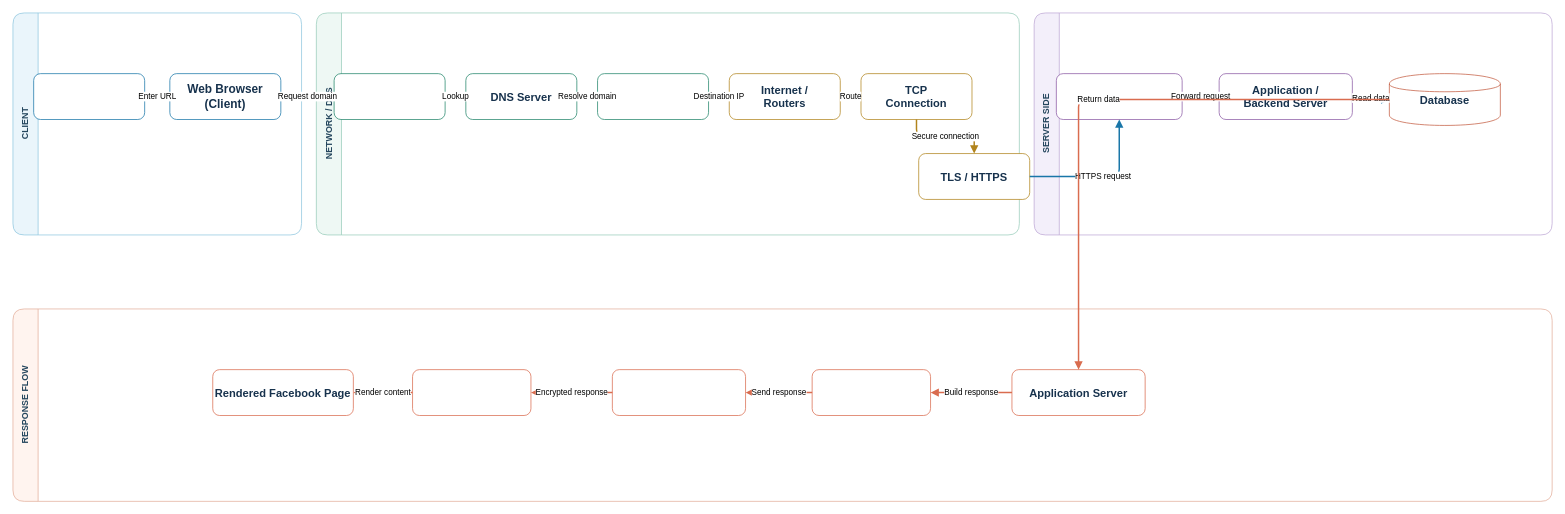
Image size: 1565x514. Some labels were removed from this diagram. Here are the shapes that lost their labels. From the top down, the centre of each, then its label:
point (89, 96): User
point (389, 96): DNS Resolver
point (653, 96): IP Address
point (1119, 96): Facebook Web Server
point (471, 392): Browser
point (679, 392): HTTPS Response
point (871, 392): Web Server
